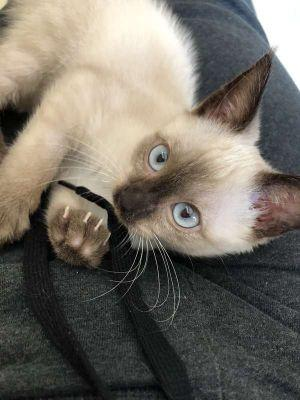siamese: (108, 49, 300, 262)
